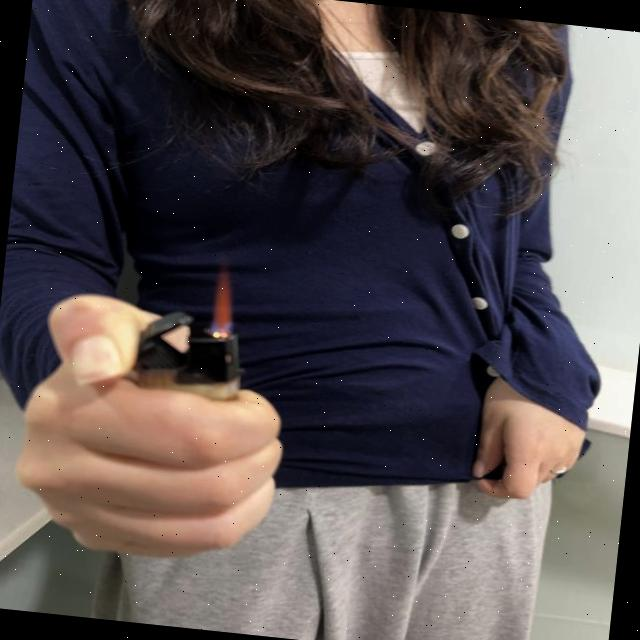fire: (204, 262, 243, 334)
